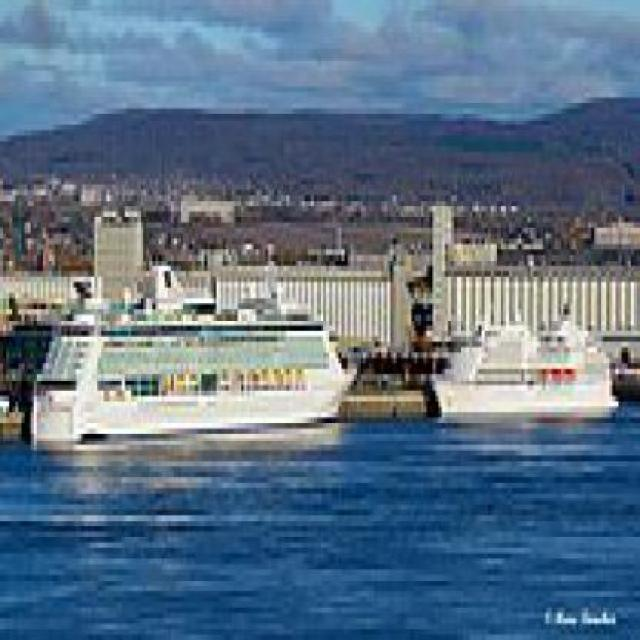cruise: (20, 268, 364, 457), (424, 294, 629, 451)
